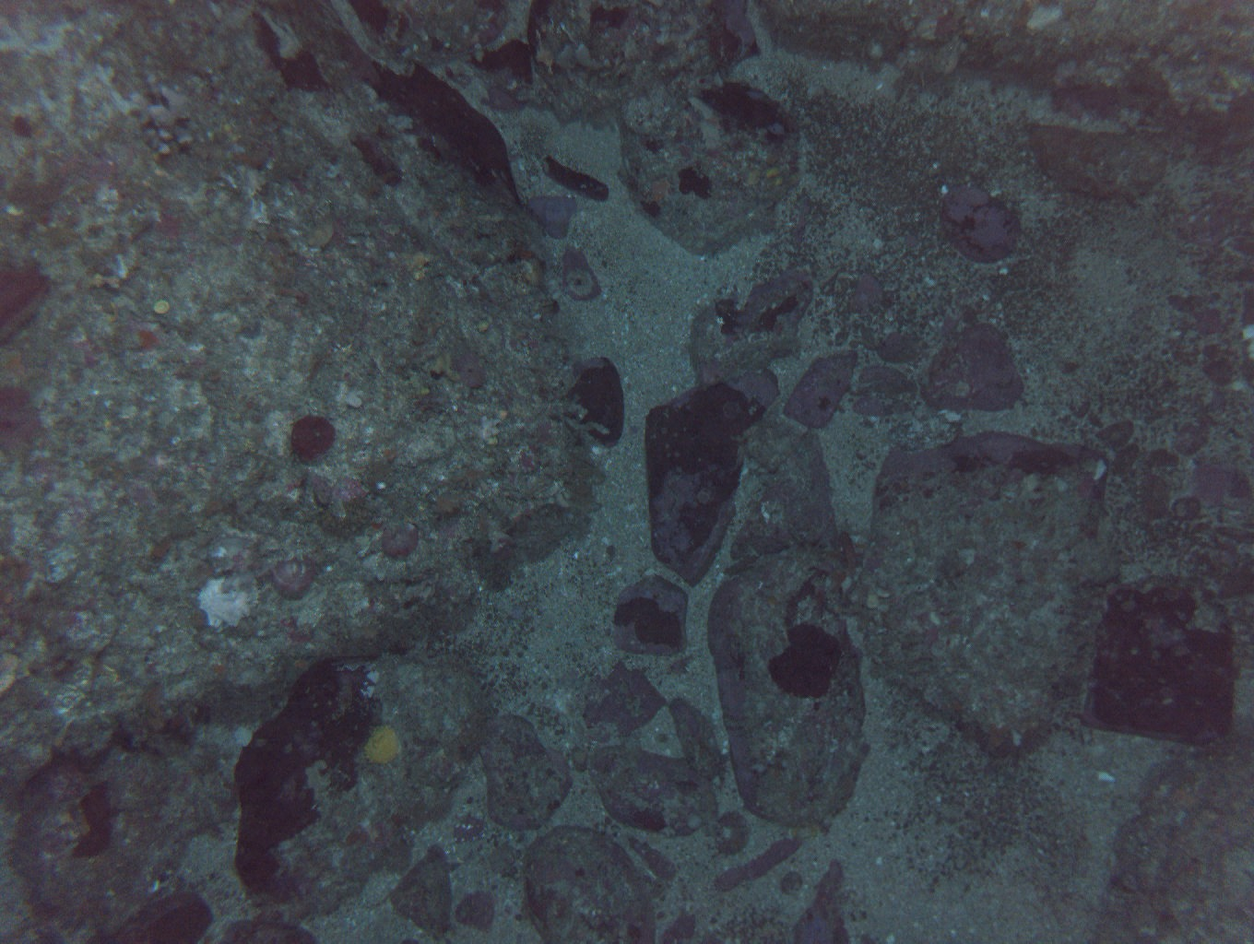Brachionichthyidae: (827, 531, 865, 587)
